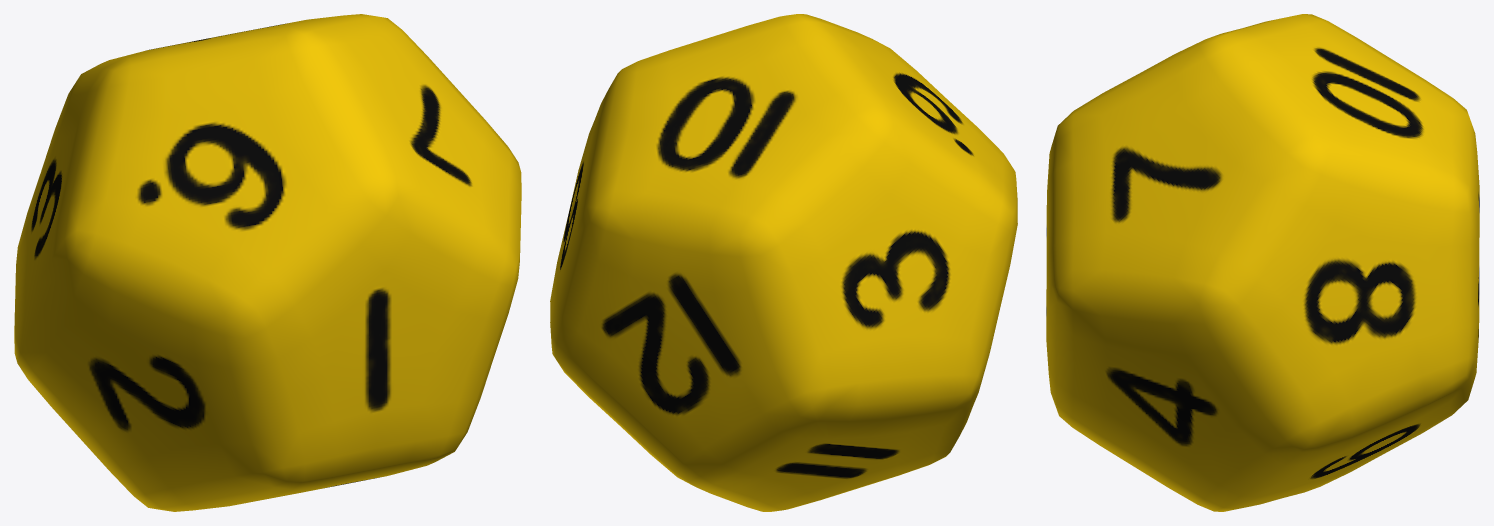
3 views of the same model, side by side, from view 1: azimuth 30°, elevation 25°; view 2: azimuth 150°, elevation 25°; view 3: azimuth 270°, elevation 25° (orthographic). The views are drawn at different scales.
Parts seen in each view (by area): view 1: Twelve_sided_cube_pivot.003; view 2: Twelve_sided_cube_pivot.003; view 3: Twelve_sided_cube_pivot.003.
Boxes of the visible parts, box(x1,y1,x2,y2) form: Twelve_sided_cube_pivot.003: box(14, 14, 521, 511); Twelve_sided_cube_pivot.003: box(550, 14, 1017, 511); Twelve_sided_cube_pivot.003: box(1046, 14, 1479, 511).
Bounding box in the file's own units: 2.01 × 2.07 × 1.78.
1 material, 1 textured.
